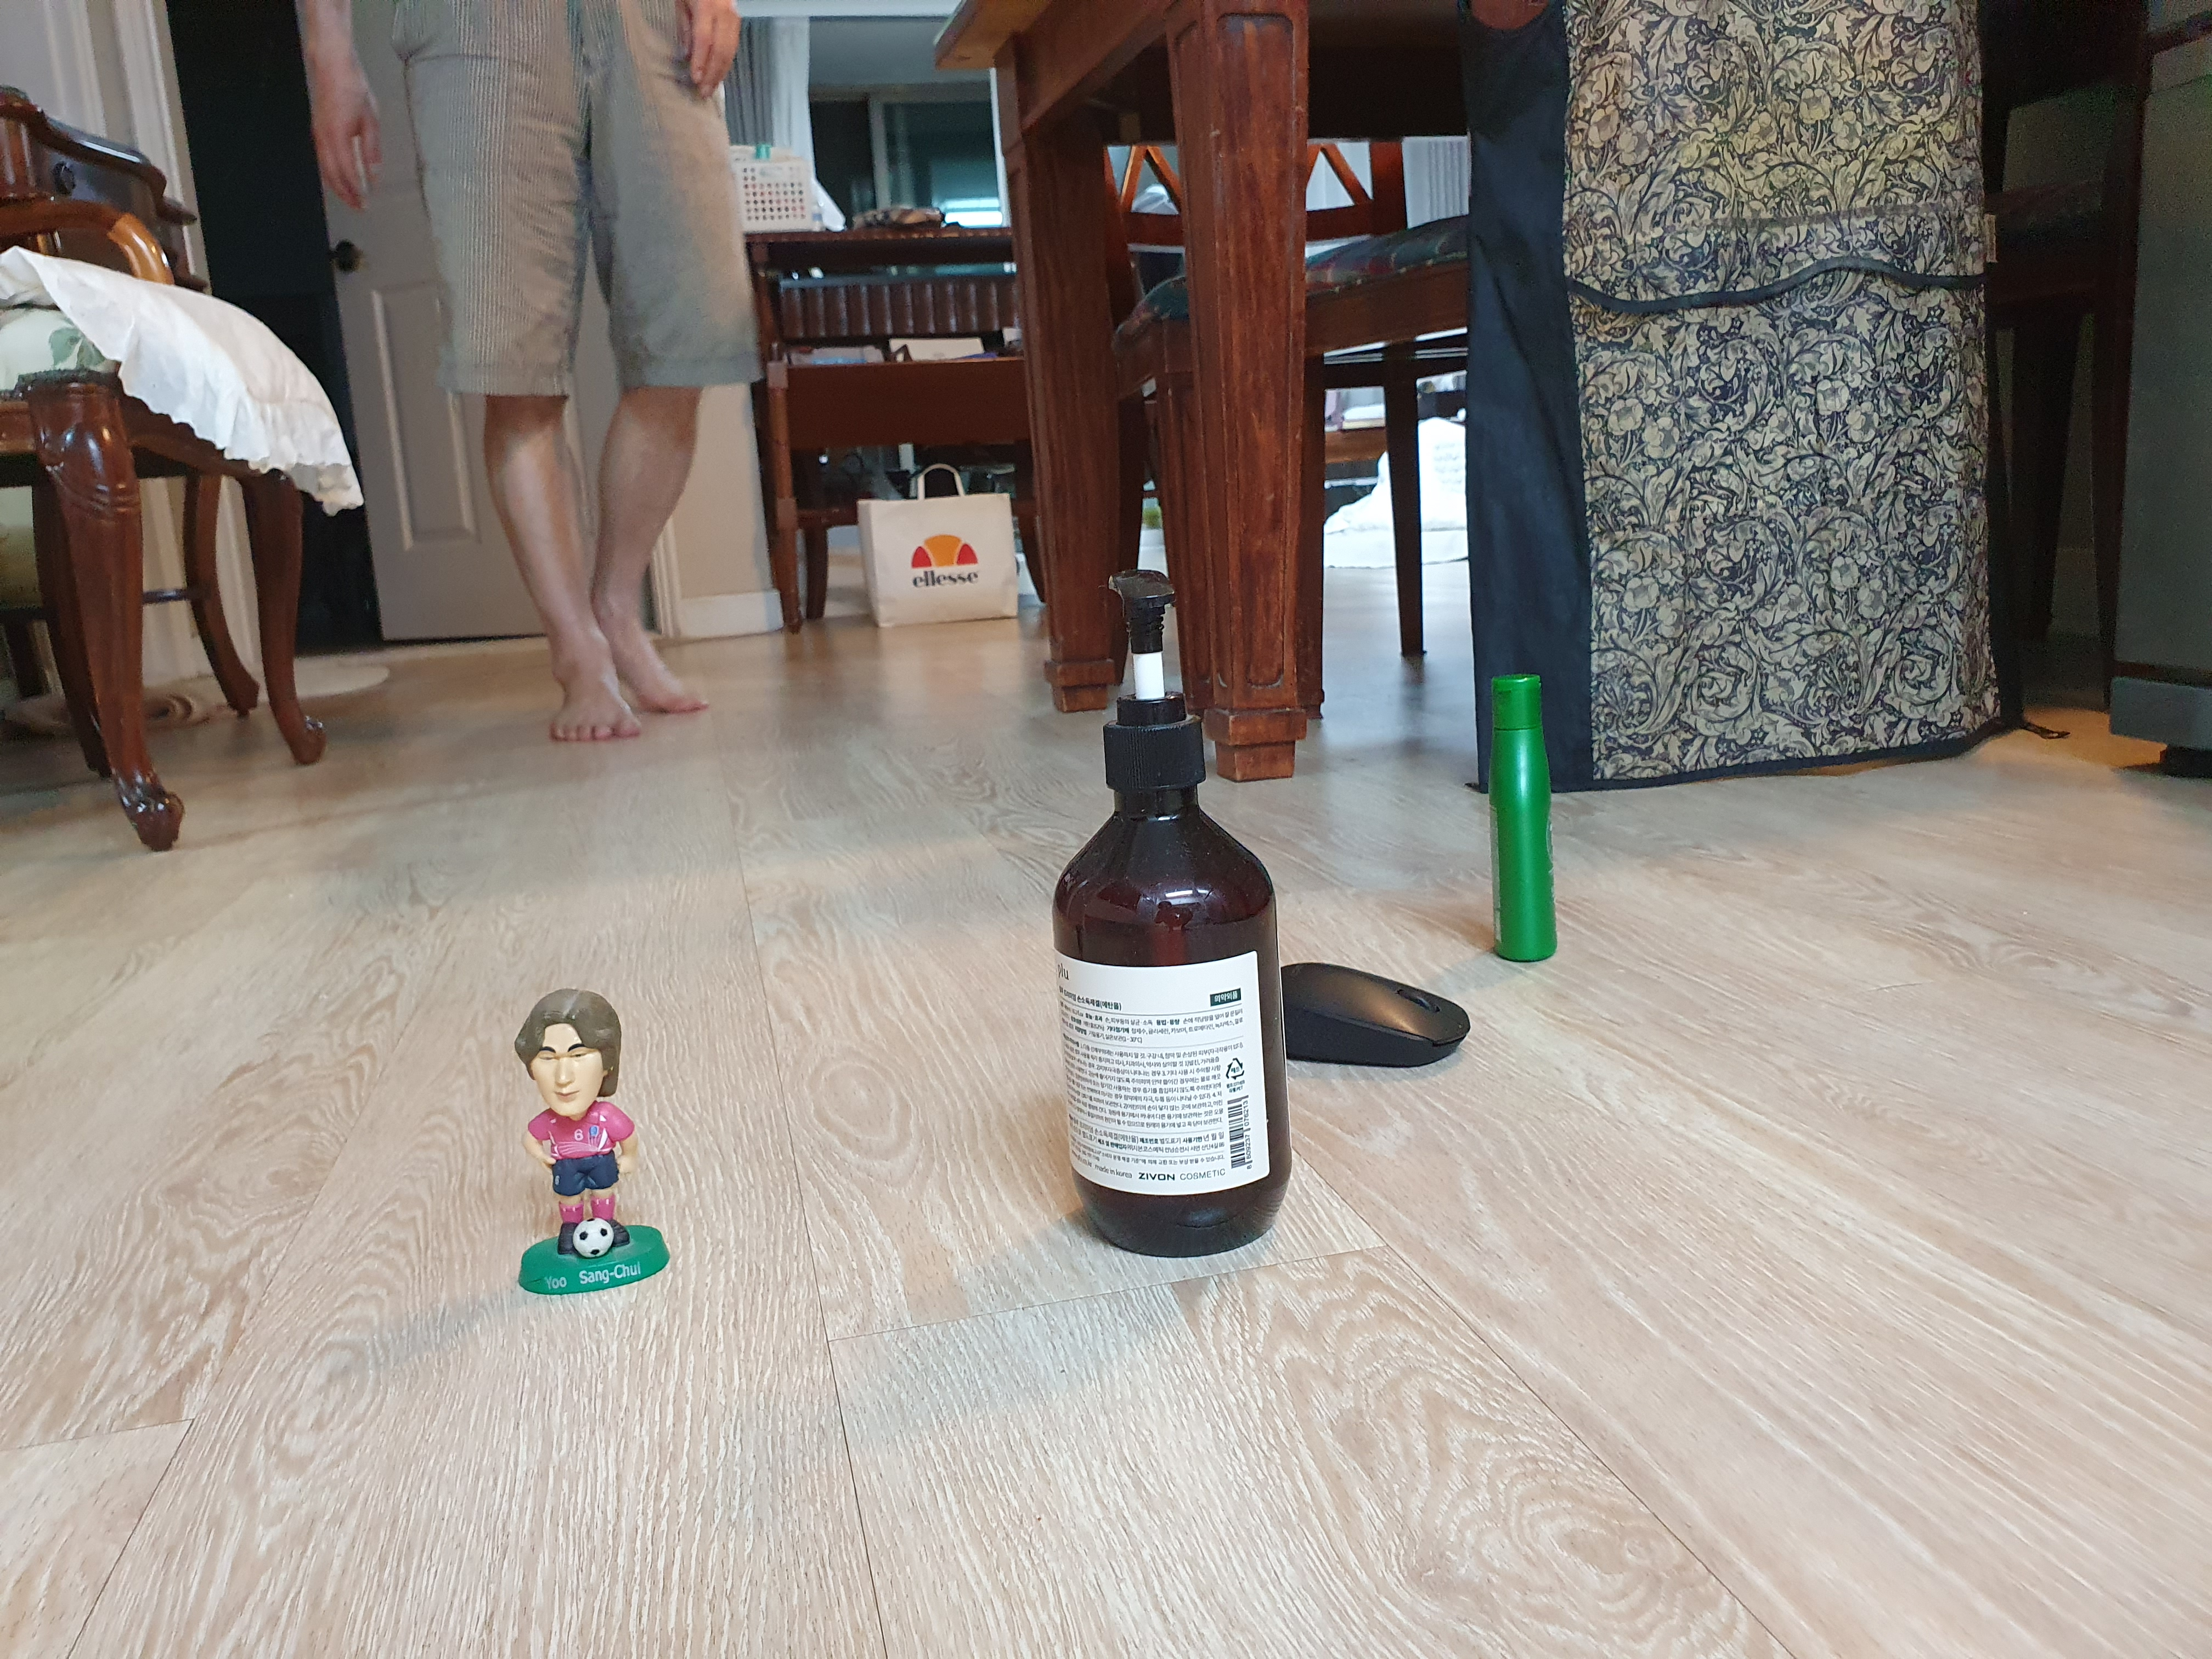bottle: (951, 540, 1280, 1387)
mouse: (1287, 932, 1500, 1126)
shampoo: (1440, 638, 1681, 976)
yoo: (421, 958, 719, 1331)
